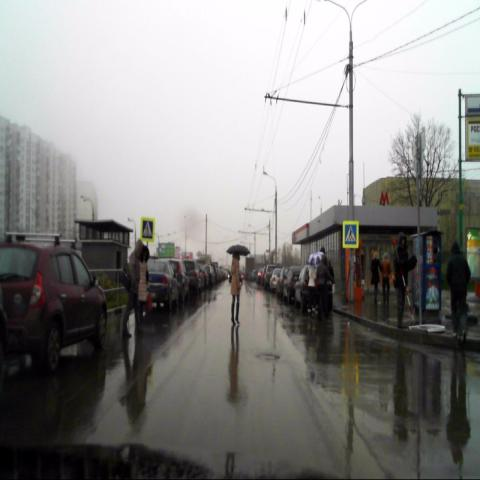5_19_1: (343, 221, 358, 247), (141, 217, 155, 242)
